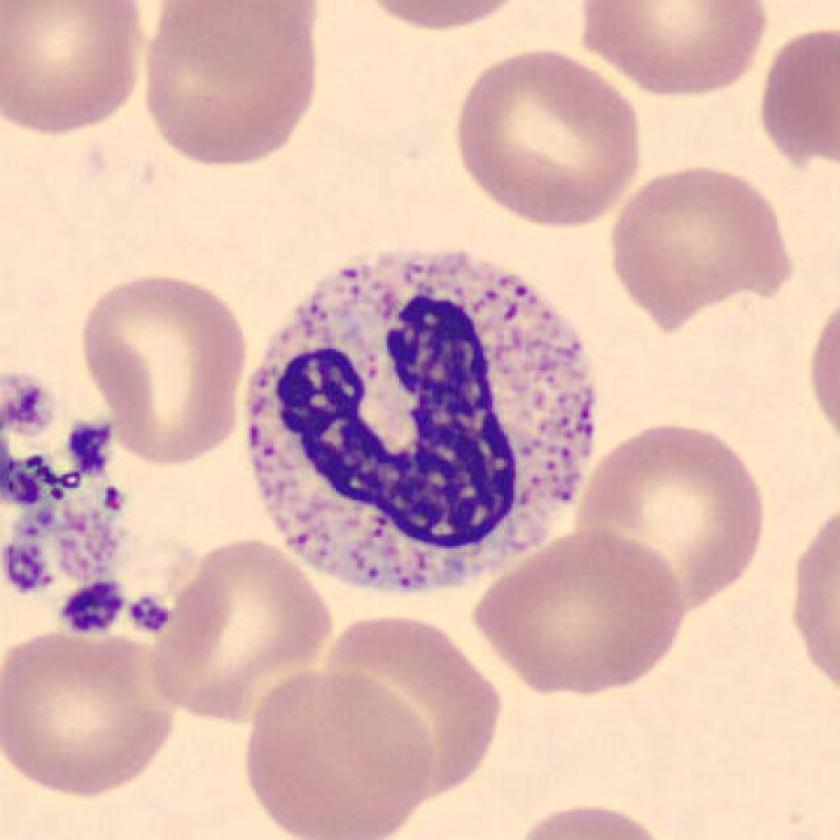neutrophil: (248, 252, 594, 590)
